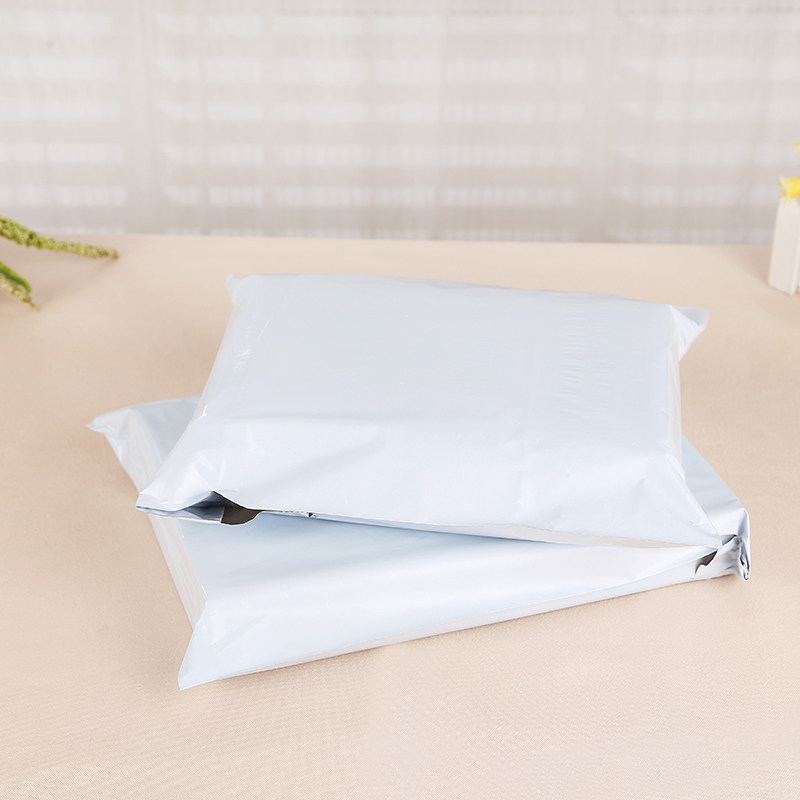Parcel: (69, 192, 759, 696)
